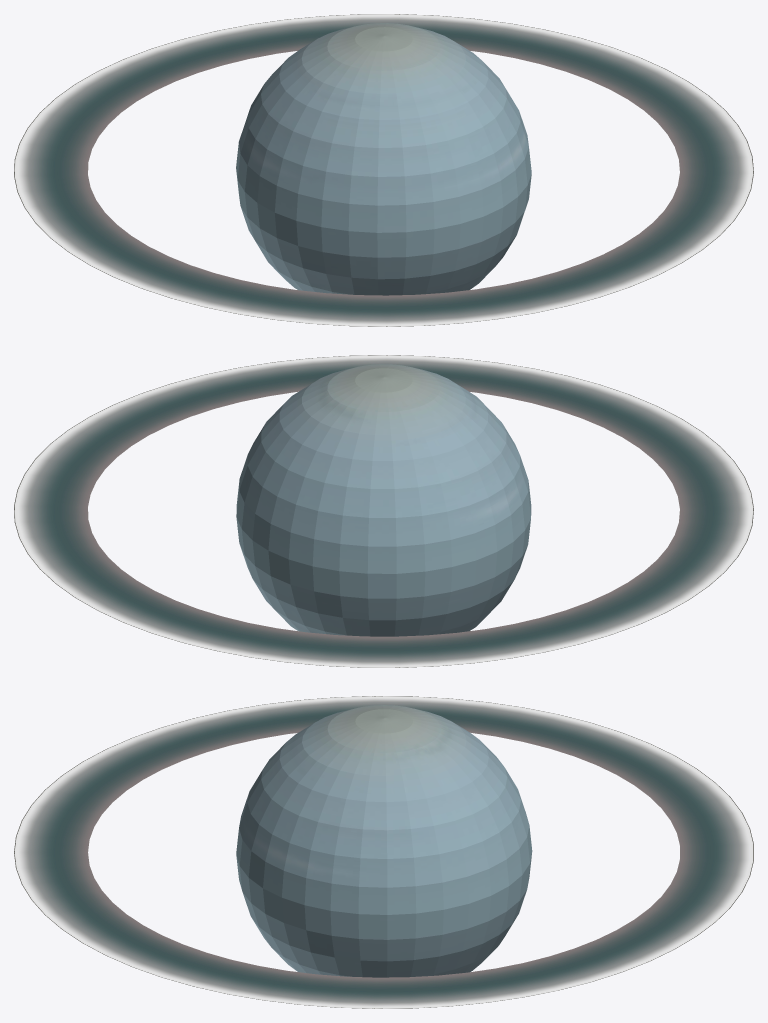
File: uranus.obj
3 renders of one model, top to bottom at view 1: azimuth 30°, elevation 25°; view 2: azimuth 150°, elevation 25°; view 3: azimuth 270°, elevation 25°, orthographic.
Visible parts, largest first — view 1: Sphere; view 2: Sphere; view 3: Sphere.
Boxes of the visible parts, left/top/right/bottom form: Sphere: left=14, top=14, right=753, bottom=326; Sphere: left=14, top=355, right=753, bottom=667; Sphere: left=14, top=696, right=753, bottom=1008.
Bounding box in the file's own units: 5 × 2 × 5.
Materials: 2 (2 with a texture image).
